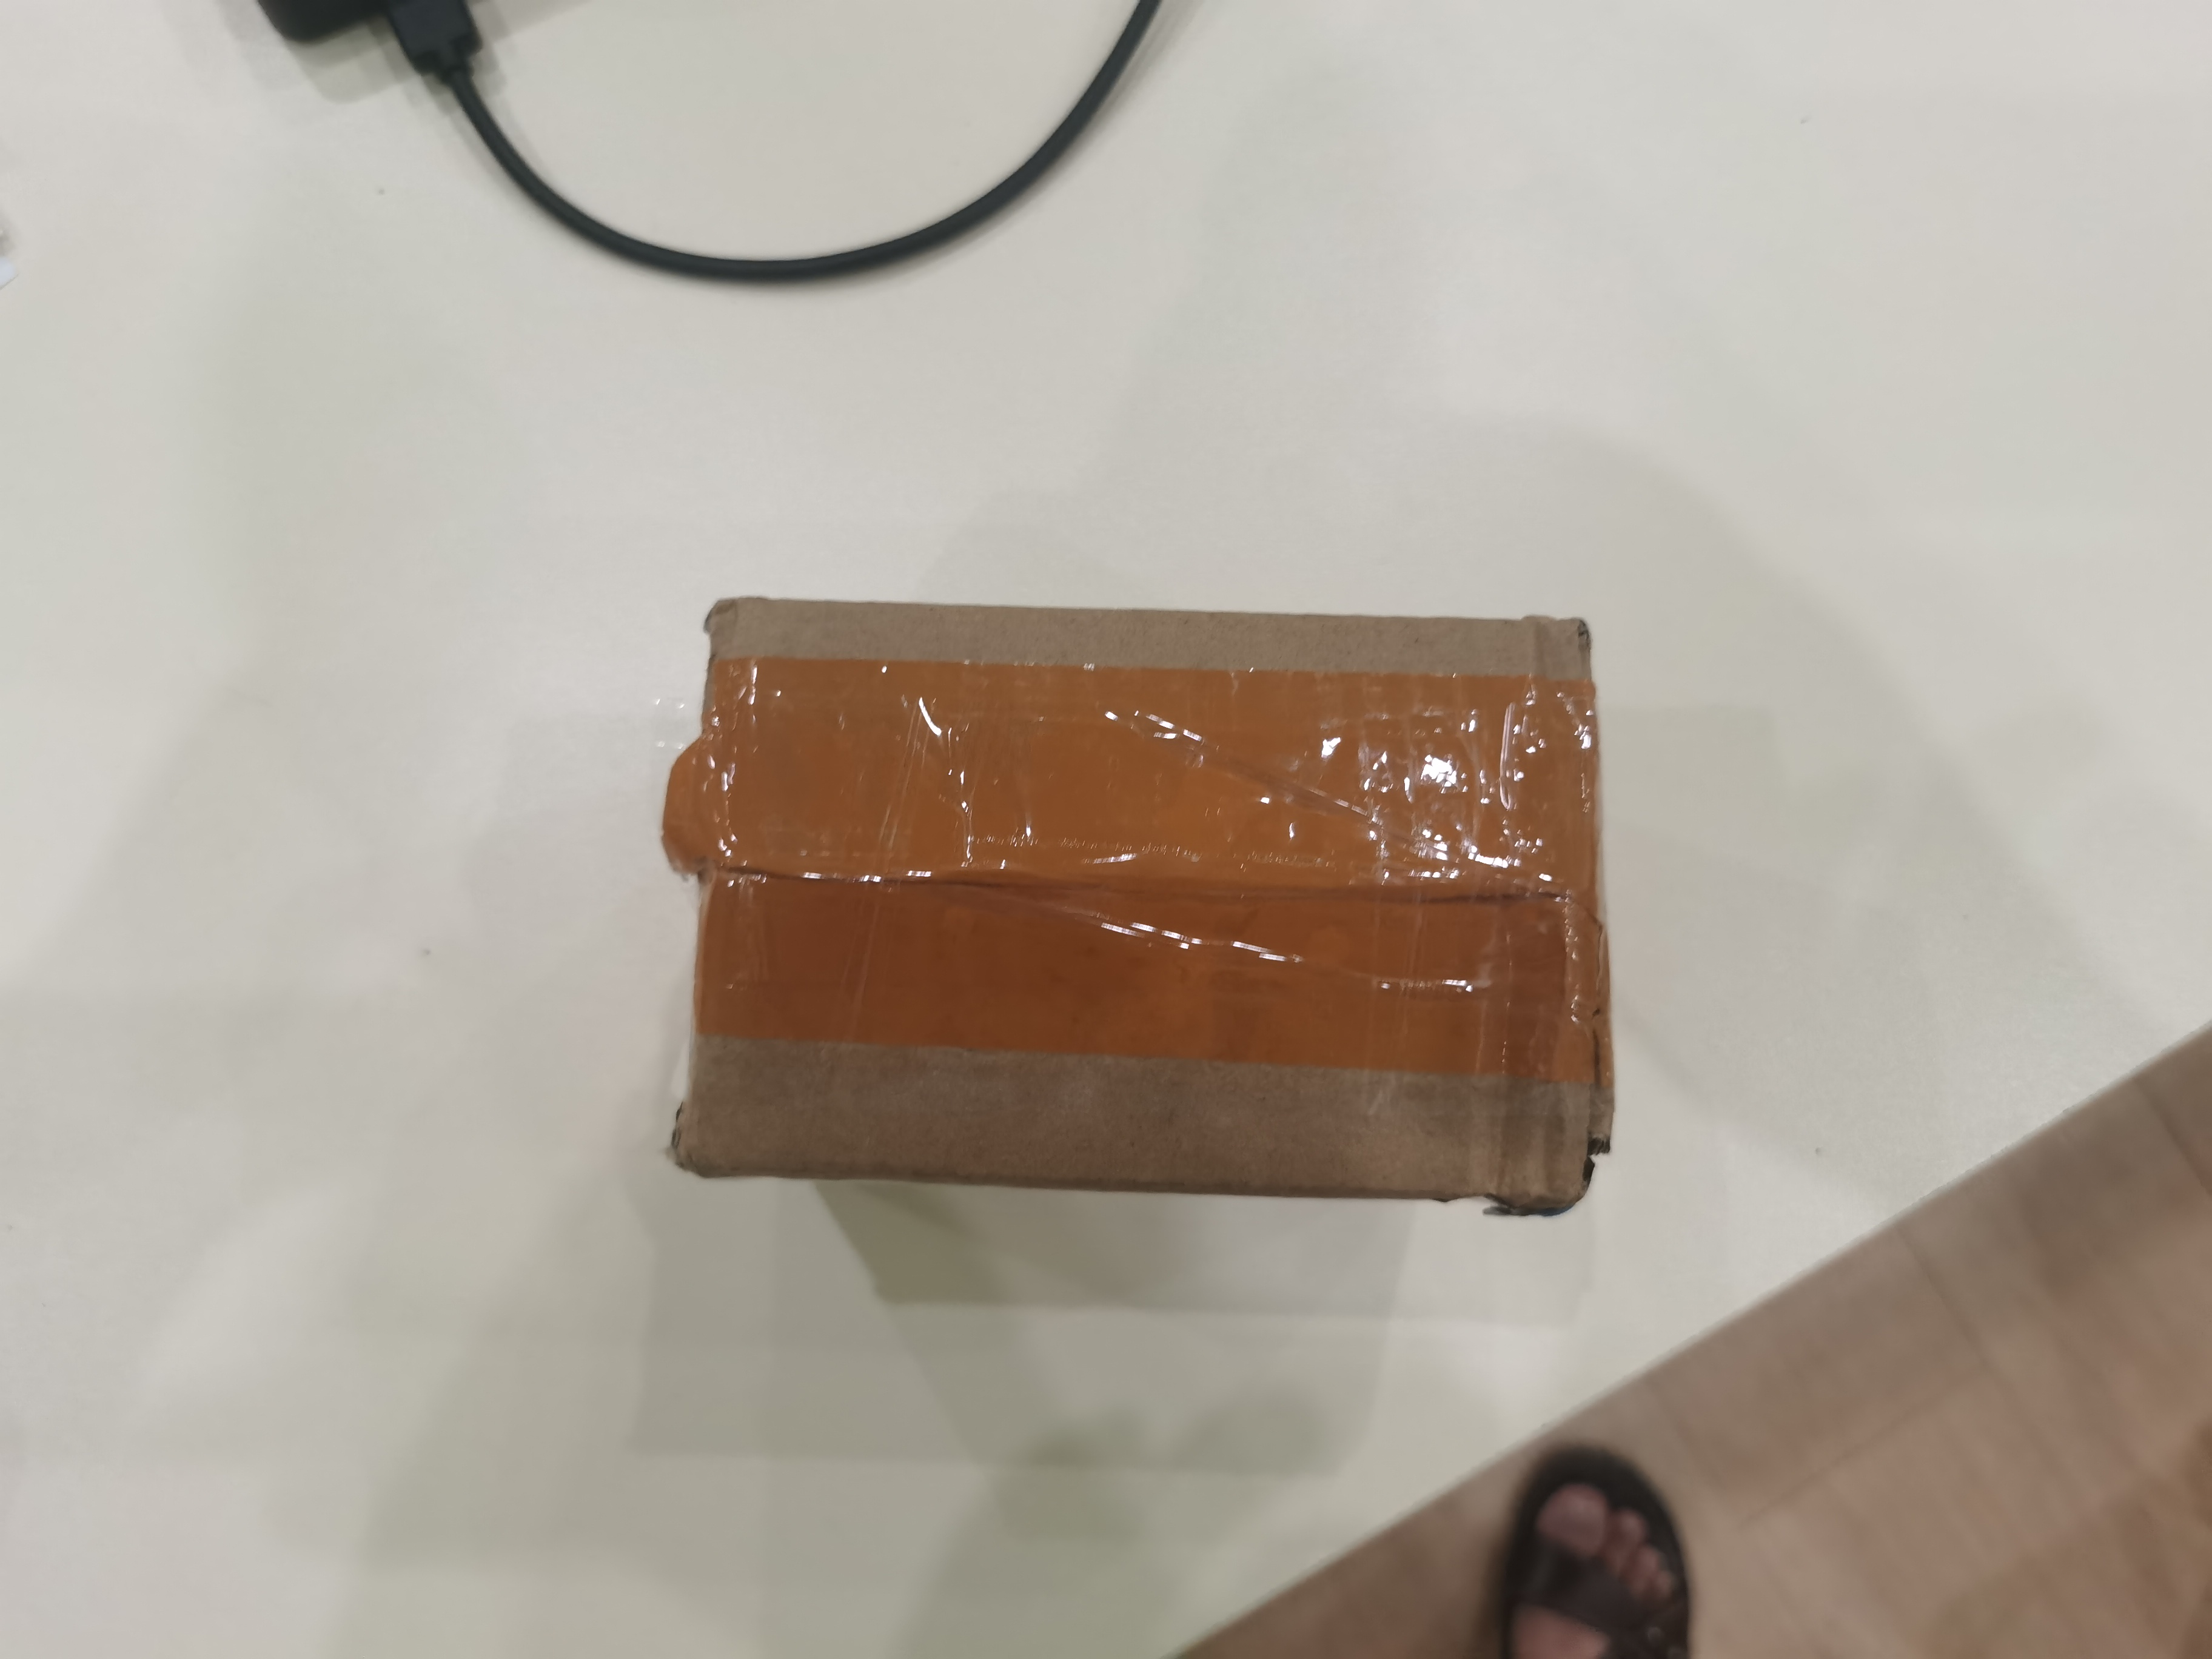box: (631, 552, 1813, 1295)
